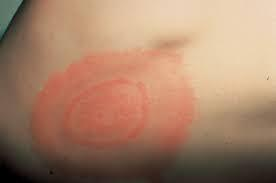Tick: (28, 50, 195, 173)
